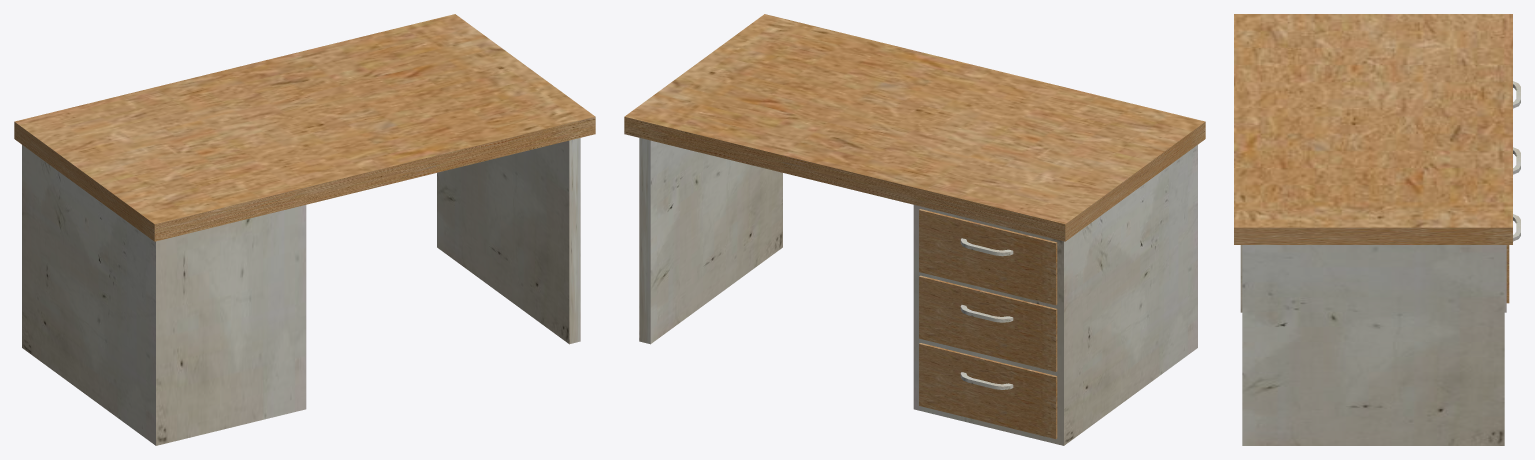
The model's file is secretaria shwn.fbx.
The picture shows the model from 3 angles, left to right: view 1: azimuth 30°, elevation 25°; view 2: azimuth 150°, elevation 25°; view 3: azimuth 270°, elevation 25°; orthographic projection.
Parts seen in each view (by area): view 1: pCube692, pCube693, pCube697; view 2: pCube692, pCube693, pCube697, pCube695, pCube709, pCube708; view 3: pCube692, pCube697, pCube693.
Part boxes in pixels (left/top/right/bottom): pCube692: left=14, top=14, right=595, bottom=241; pCube693: left=22, top=145, right=306, bottom=445; pCube697: left=437, top=138, right=580, bottom=344; pCube692: left=624, top=14, right=1205, bottom=241; pCube693: left=913, top=145, right=1197, bottom=445; pCube697: left=639, top=138, right=782, bottom=344; pCube695: left=919, top=275, right=1057, bottom=371; pCube709: left=919, top=343, right=1057, bottom=439; pCube708: left=919, top=209, right=1057, bottom=305; pCube692: left=1234, top=14, right=1512, bottom=244; pCube697: left=1242, top=245, right=1504, bottom=445; pCube693: left=1240, top=245, right=1506, bottom=312.
Bounding box in the file's own units: 6.5 × 3.17 × 3.69.
